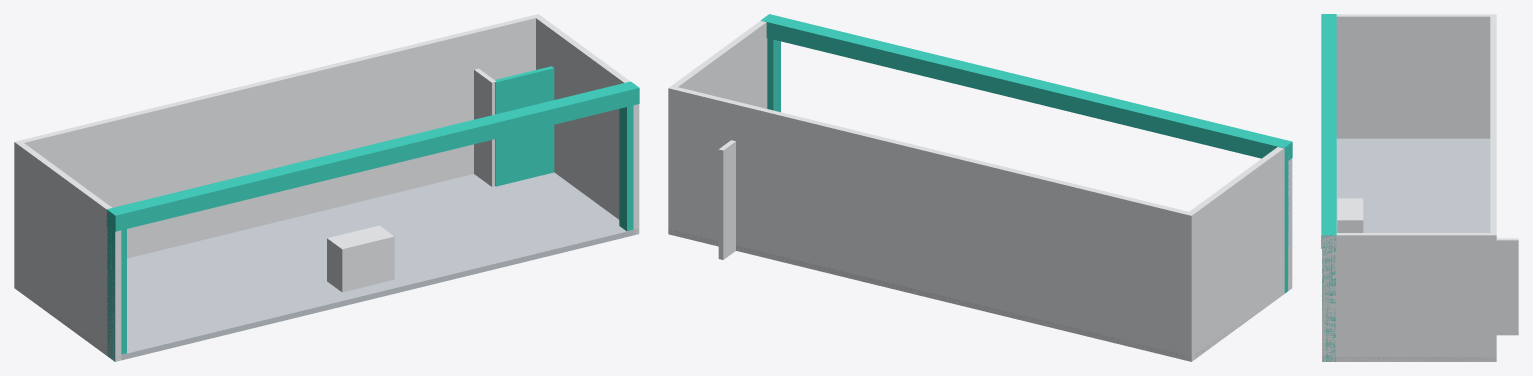
3 views of the same model, side by side, from view 1: azimuth 30°, elevation 25°; view 2: azimuth 150°, elevation 25°; view 3: azimuth 270°, elevation 25° (orthographic). The views are drawn at different scales.
Visible parts, largest first — view 1: Exhibition Booth Concept; view 2: Exhibition Booth Concept; view 3: Exhibition Booth Concept.
Boxes of the visible parts, bbox=[...] form: Exhibition Booth Concept: bbox=[14, 14, 639, 361]; Exhibition Booth Concept: bbox=[668, 14, 1292, 361]; Exhibition Booth Concept: bbox=[1321, 14, 1518, 361].
Bounding box in the file's own units: 12 × 3.2 × 4.52.
